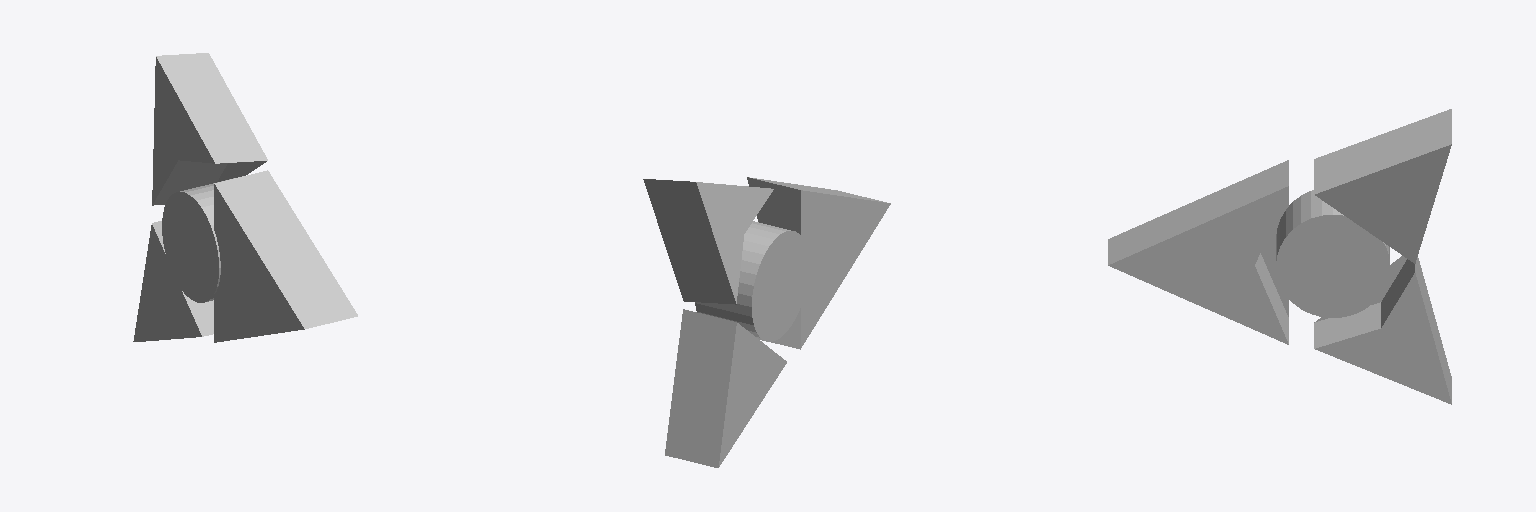
The model's file is playerModel v0.3.obj.
3 renders of one model, left to right at view 1: azimuth 30°, elevation 25°; view 2: azimuth 150°, elevation 25°; view 3: azimuth 270°, elevation 25°, orthographic.
Parts seen in each view (by area): view 1: Base_Cube.019, Base_Right_Cube.027, Cylinder.001_Cylinder.002, Base_left_Scale_Cube.026; view 2: Base_left_Scale_Cube.026, Base_Right_Cube.027, Base_Cube.019, Cylinder.001_Cylinder.002; view 3: Base_Cube.019, Base_Right_Cube.027, Cylinder.001_Cylinder.002, Base_left_Scale_Cube.026.
Part boxes in pixels (left/top/right/bottom): Base_Cube.019: left=214, top=170, right=357, bottom=342; Base_Right_Cube.027: left=152, top=53, right=267, bottom=205; Cylinder.001_Cylinder.002: left=162, top=178, right=233, bottom=302; Base_left_Scale_Cube.026: left=133, top=221, right=213, bottom=341; Base_left_Scale_Cube.026: left=665, top=309, right=786, bottom=467; Base_Right_Cube.027: left=643, top=179, right=773, bottom=304; Base_Cube.019: left=747, top=177, right=890, bottom=349; Cylinder.001_Cylinder.002: left=695, top=221, right=808, bottom=341; Base_Cube.019: left=1108, top=160, right=1288, bottom=344; Base_Right_Cube.027: left=1314, top=109, right=1451, bottom=263; Cylinder.001_Cylinder.002: left=1276, top=190, right=1389, bottom=317; Base_left_Scale_Cube.026: left=1314, top=256, right=1451, bottom=404.
Bounding box in the file's own units: 1.44 × 4.99 × 5.53.